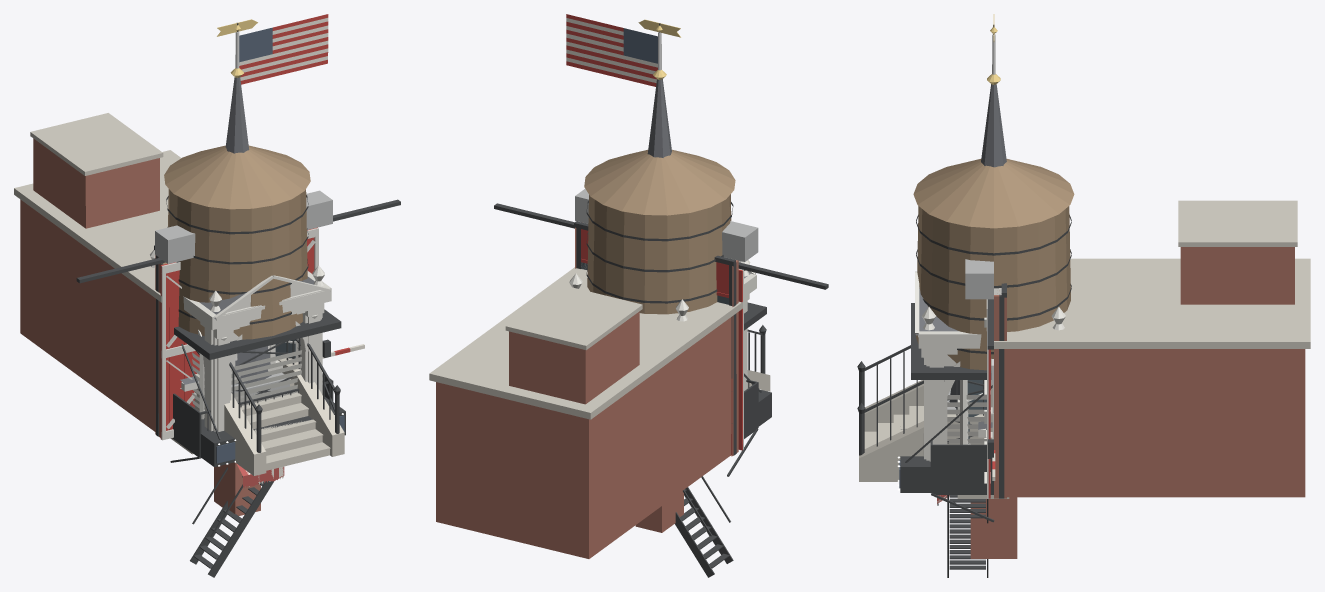
Rendered from kit.glb.
The picture shows the model from 3 angles, left to right: view 1: azimuth 30°, elevation 25°; view 2: azimuth 150°, elevation 25°; view 3: azimuth 270°, elevation 25°; orthographic projection. The views are drawn at different scales.
Parts seen in each view (by area): view 1: core-head|brick, water-tank|wood, core-head|stone, belfry|trim, stoop|stone, fire-escape|metal, water-tank|metal, door-barn|red, flagpole|red, door-rollup|galv, portico|trim, flagpole|canvas2 (+9 smaller); view 2: core-head|brick, water-tank|wood, core-head|stone, fire-escape|metal, flagpole|red, flagpole|canvas2, door-rollup|galv, water-tank|metal, spire|roof, door-rollup|metal, door-barn|metal, door-apparatus|brick (+6 smaller); view 3: core-head|brick, core-head|stone, water-tank|wood, fire-escape|metal, stoop|stone, belfry|trim, water-tank|metal, chimney-brick|brick, stoop|metal, door-apparatus|brick, spire|roof, marquee|metal (+2 smaller).
Part boxes in pixels (left/top/right/bottom): core-head|brick: left=20, top=138, right=159, bottom=431; water-tank|wood: left=164, top=145, right=310, bottom=339; core-head|stone: left=14, top=113, right=181, bottom=302; belfry|trim: left=150, top=250, right=331, bottom=431; stoop|stone: left=194, top=358, right=344, bottom=475; fire-escape|metal: left=170, top=373, right=333, bottom=577; water-tank|metal: left=166, top=195, right=341, bottom=394; door-barn|red: left=160, top=227, right=317, bottom=439; flagpole|red: left=239, top=14, right=328, bottom=84; door-rollup|galv: left=155, top=190, right=332, bottom=263; portico|trim: left=213, top=275, right=330, bottom=430; flagpole|canvas2: left=239, top=18, right=328, bottom=80; core-head|brick: left=436, top=311, right=731, bottom=558; water-tank|wood: left=584, top=149, right=735, bottom=314; core-head|stone: left=429, top=267, right=742, bottom=419; fire-escape|metal: left=675, top=379, right=758, bottom=577; flagpole|red: left=566, top=14, right=657, bottom=86; flagpole|canvas2: left=566, top=18, right=657, bottom=82; door-rollup|galv: left=575, top=189, right=758, bottom=268; water-tank|metal: left=586, top=201, right=766, bottom=330; spire|roof: left=647, top=79, right=671, bottom=157; door-rollup|metal: left=576, top=228, right=736, bottom=455; door-barn|metal: left=494, top=203, right=828, bottom=289; door-apparatus|brick: left=575, top=227, right=738, bottom=456; core-head|brick: left=1007, top=247, right=1305, bottom=497; core-head|stone: left=994, top=200, right=1310, bottom=348; water-tank|wood: left=913, top=159, right=1074, bottom=370; fire-escape|metal: left=930, top=440, right=994, bottom=577; stoop|stone: left=859, top=380, right=986, bottom=481; belfry|trim: left=918, top=307, right=1065, bottom=461; water-tank|metal: left=911, top=215, right=1071, bottom=438; chimney-brick|brick: left=970, top=497, right=1017, bottom=558; stoop|metal: left=857, top=345, right=984, bottom=455; door-apparatus|brick: left=994, top=290, right=1006, bottom=498; spire|roof: left=949, top=84, right=1006, bottom=409; marquee|metal: left=900, top=385, right=992, bottom=492.
Bounding box in the file's own units: 7.8 × 12.26 × 8.73.
